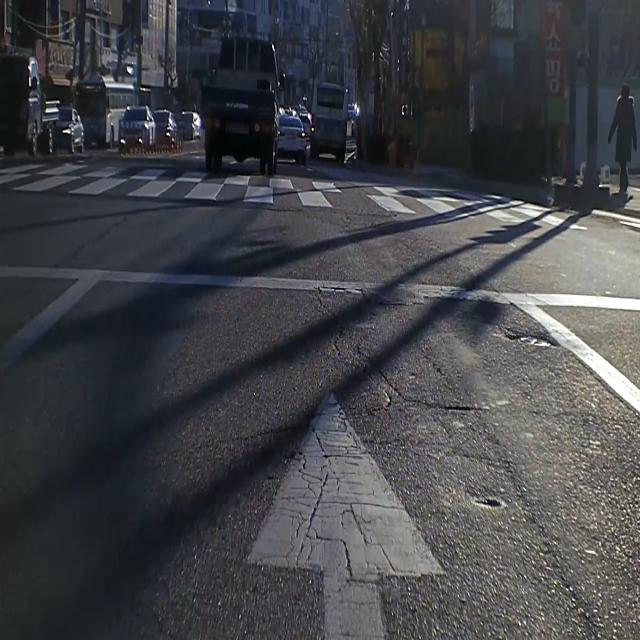Pothole: (492, 318, 561, 355)
